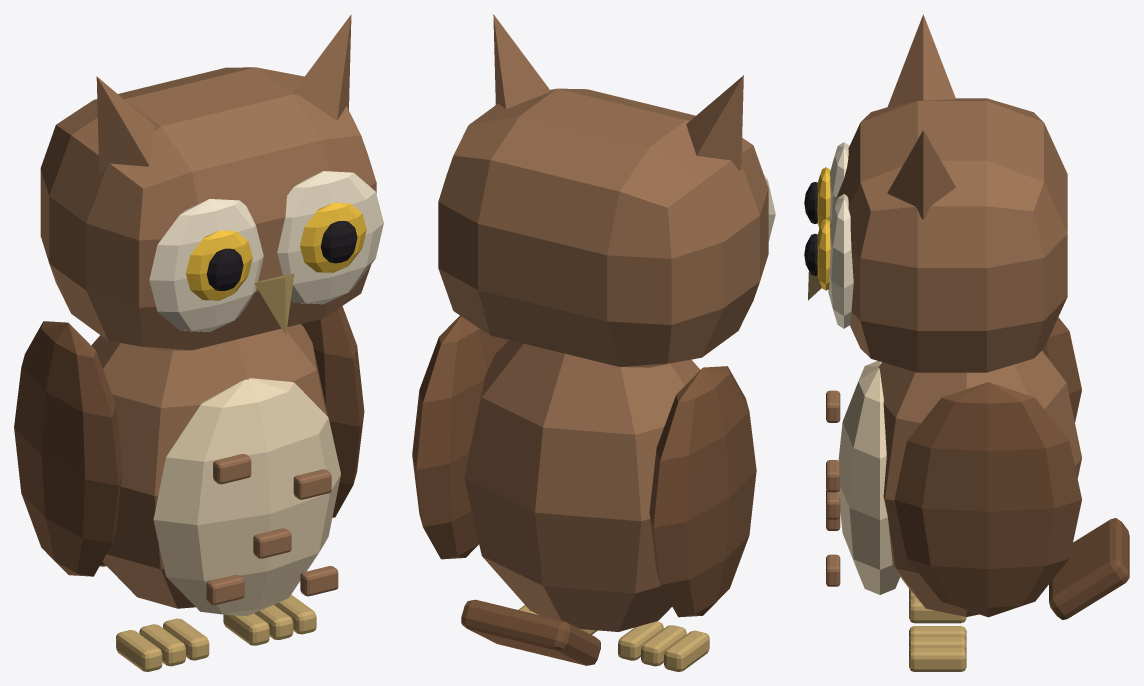
File: owl_brown.glb
3 renders of one model, left to right at view 1: azimuth 30°, elevation 25°; view 2: azimuth 150°, elevation 25°; view 3: azimuth 270°, elevation 25°, orthographic. The views are drawn at different scales.
Parts seen in each view (by area): view 1: head_mesh, body_mesh, wing_r_mesh, wing_l_mesh, foot_r_mesh, foot_l_mesh; view 2: head_mesh, body_mesh, wing_r_mesh, wing_l_mesh, foot_r_mesh; view 3: head_mesh, wing_l_mesh, body_mesh, foot_l_mesh, wing_r_mesh, foot_r_mesh.
Boxes of the visible parts, x1,y1,x2,y2 form: head_mesh: (40, 14, 383, 350); body_mesh: (91, 324, 340, 616); wing_r_mesh: (14, 321, 122, 576); wing_l_mesh: (301, 306, 364, 517); foot_r_mesh: (116, 618, 209, 671); foot_l_mesh: (223, 594, 316, 645); head_mesh: (438, 14, 775, 367); body_mesh: (461, 340, 700, 665); wing_r_mesh: (649, 366, 756, 617); wing_l_mesh: (412, 315, 508, 559); foot_r_mesh: (618, 621, 709, 671); head_mesh: (804, 14, 1067, 372); wing_l_mesh: (894, 382, 1081, 617); body_mesh: (826, 351, 1129, 619); foot_l_mesh: (909, 626, 966, 671); wing_r_mesh: (1042, 317, 1081, 422); foot_r_mesh: (909, 588, 966, 623).
Bounding box in the file's own units: 0.44 × 0.86 × 0.4509.
